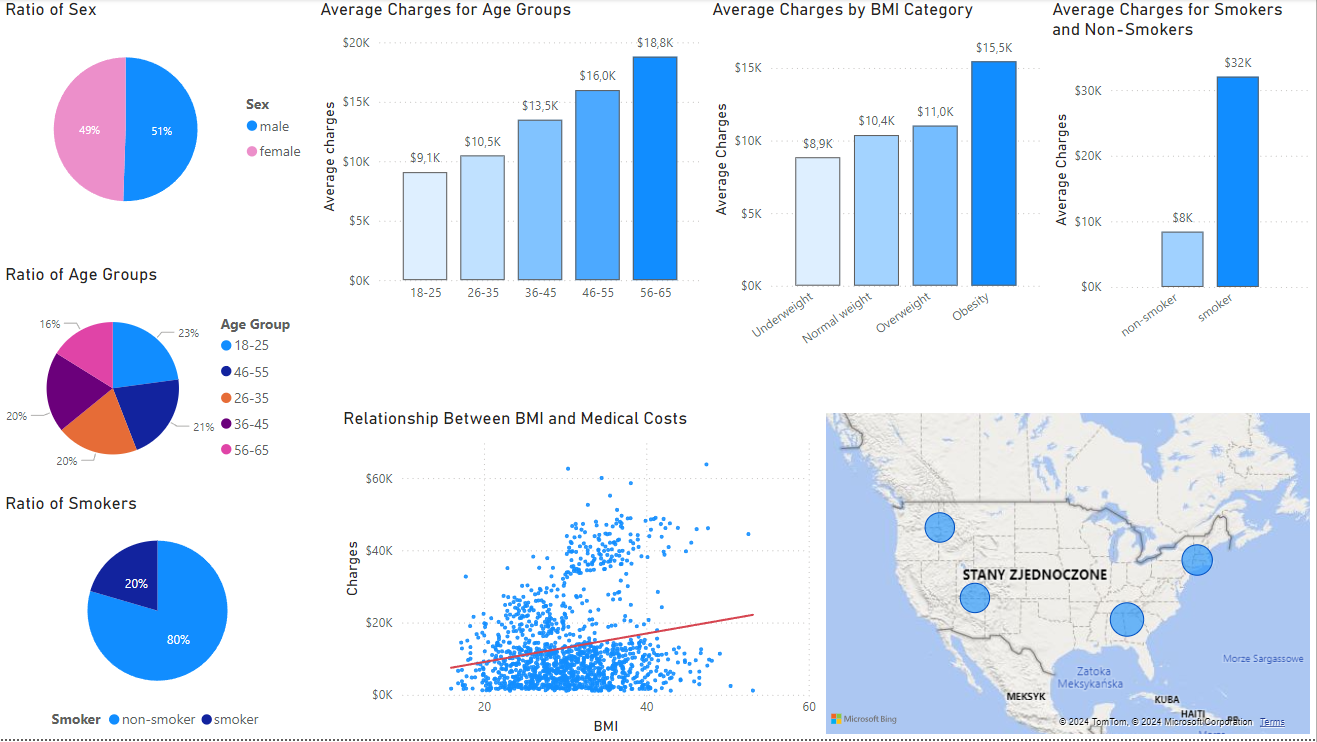

The dashboard page shown, as its layout file describes it:
{"tool":"powerbi","page":{"name":"Dashboard","canvas":[1280,720],"ordinal":0},"visuals":[{"type":"pieChart","title":"Ratio of Sex","fields":{"Category":["insurance.Sex"],"Y":["CountNonNull(insurance.Sex)"]},"box":[0,0,306.4,234.4],"z":0},{"type":"pieChart","title":"Ratio of Age Groups","fields":{"Category":["insurance.Age Group"],"Y":["CountNonNull(insurance.Age Group)"]},"box":[0,257.8,306.4,222.7],"z":1000},{"type":"pieChart","title":"Ratio of Smokers","fields":{"Y":["CountNonNull(insurance.Smoker)"],"Series":["insurance.Smoker"]},"box":[0,480.5,306.4,239.3],"z":2000},{"type":"columnChart","title":"Average Charges for Age Groups","fields":{"Y":["Avg(insurance.charges)"],"Category":["insurance.Age Group"]},"box":[306.4,0,381.3,303.5],"z":3000},{"type":"scatterChart","title":"Relationship Between BMI and Medical Costs","fields":{"X":["Sum(insurance.bmi)"],"Y":["Sum(insurance.charges)"]},"box":[328.8,397.8,469.8,321.9],"z":4000},{"type":"clusteredColumnChart","title":"Average Charges by BMI Category","fields":{"Category":["insurance.BMI_Category"],"Y":["Avg(insurance.Charges)"]},"box":[687.7,0,330.7,359.9],"z":5000},{"type":"clusteredColumnChart","title":"Average Charges for Smokers and Non-Smokers","fields":{"Category":["insurance.Smoker"],"Y":["Avg(insurance.Charges)"]},"box":[1018.4,0,261.6,352.1],"z":6000},{"type":"map","fields":{"Category":["Region Details.Region"],"Size":["Sum(insurance.Charges)"]},"box":[798.5,397.8,481.5,321.9],"z":7000}]}

Visuals, with their boxes in screenshot pixels (x1, y1, x2, y2), scaled from the page's 1280x720 canvas onto the 1317x742 screenshot:
"Ratio of Sex" pieChart: (0,0,315,242)
"Ratio of Age Groups" pieChart: (0,266,315,495)
"Ratio of Smokers" pieChart: (0,495,315,741)
"Average Charges for Age Groups" columnChart: (315,0,708,313)
"Relationship Between BMI and Medical Costs" scatterChart: (338,410,822,741)
"Average Charges by BMI Category" clusteredColumnChart: (708,0,1048,371)
"Average Charges for Smokers and Non-Smokers" clusteredColumnChart: (1048,0,1316,363)
map - Region Details.Region x Sum(insurance.Charges): (822,410,1316,741)
